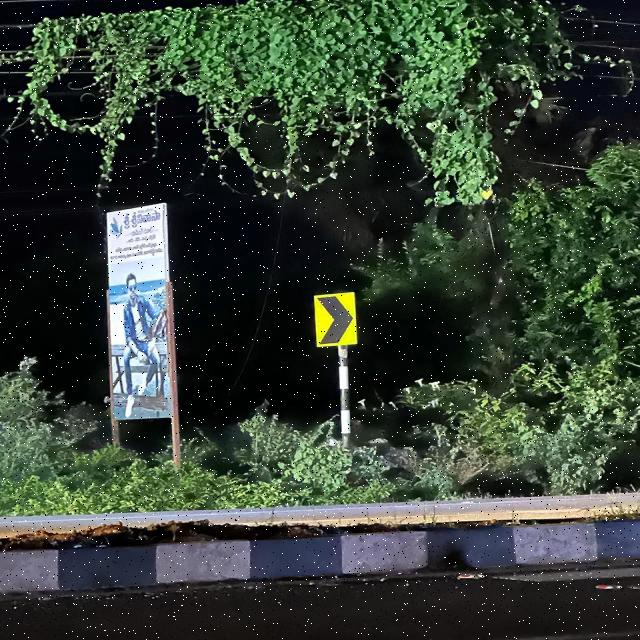chevron_right: (303, 292, 360, 350)
